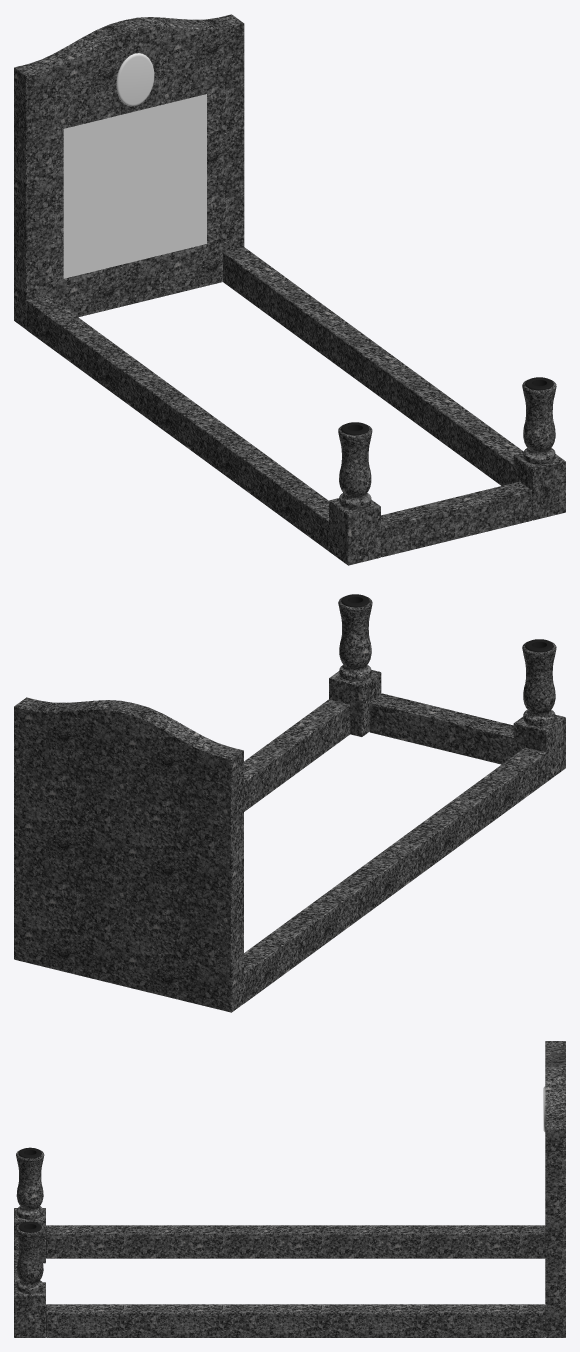
Rendered from Gravestone 3.glb.
3 views of the same model, one above another, from view 1: azimuth 30°, elevation 25°; view 2: azimuth 150°, elevation 25°; view 3: azimuth 270°, elevation 25° (orthographic). The views are drawn at different scales.
Visible parts, largest first — view 1: Gravestone 3, Txt Plane 3, Vase 3, Photo Plaque 3; view 2: Gravestone 3, Vase 3; view 3: Gravestone 3, Vase 3.
Part boxes in pixels (box(x1,y1,x2,y2)): Gravestone 3: box(14, 14, 565, 565); Txt Plane 3: box(63, 94, 206, 278); Vase 3: box(338, 377, 556, 509); Photo Plaque 3: box(116, 53, 154, 106); Gravestone 3: box(14, 670, 565, 1012); Vase 3: box(338, 594, 556, 726); Gravestone 3: box(14, 1041, 565, 1337); Vase 3: box(16, 1147, 44, 1293).
Bounding box in the file's own units: 0.7629 × 0.9144 × 2.02.
Materials: 5 (2 with a texture image).
